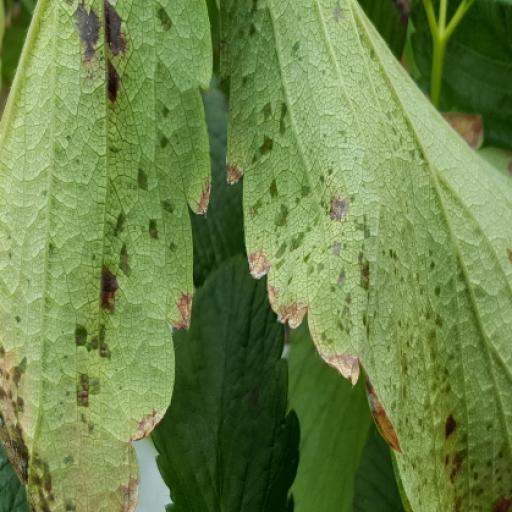Angular Leafspot: (217, 0, 511, 511)
